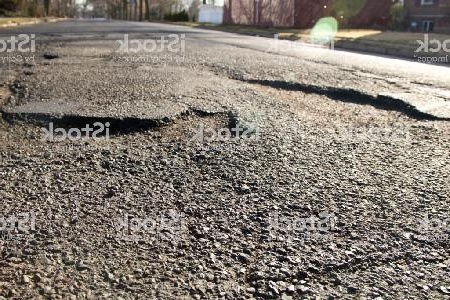pothole: (232, 73, 443, 137), (0, 105, 244, 151)
